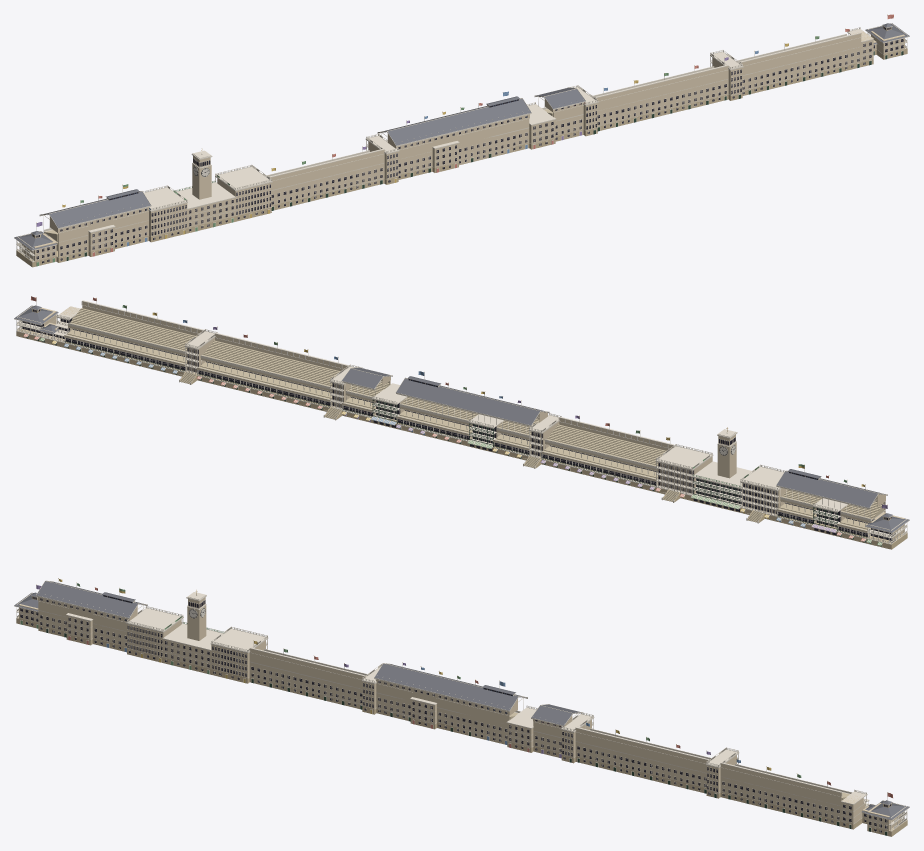
The model's file is ascot_main_stand_dressed.glb.
3 renders of one model, top to bottom at view 1: azimuth 30°, elevation 25°; view 2: azimuth 150°, elevation 25°; view 3: azimuth 330°, elevation 25°, orthographic.
Parts seen in each view (by area): view 1: ascot_stand_wall, ascot_stand_trim, ascot_stand_roof, ascot_stand_glass, ascot_stand_podium, ascot_stand_door; view 2: ascot_stand_trim, ascot_stand_steps, ascot_stand_wall, ascot_stand_roof, ascot_stand_glass, ascot_stand_podium, ascot_stand_iron; view 3: ascot_stand_wall, ascot_stand_trim, ascot_stand_roof, ascot_stand_glass, ascot_stand_podium, ascot_stand_door.
Part boxes in pixels (<box>): ascot_stand_wall: <box>22,26,904,262</box>; ascot_stand_trim: <box>14,23,909,266</box>; ascot_stand_roof: <box>14,23,909,250</box>; ascot_stand_glass: <box>32,27,903,263</box>; ascot_stand_podium: <box>16,47,907,267</box>; ascot_stand_door: <box>36,51,903,266</box>; ascot_stand_trim: <box>14,300,909,546</box>; ascot_stand_steps: <box>66,308,884,530</box>; ascot_stand_wall: <box>32,302,904,540</box>; ascot_stand_roof: <box>14,305,909,532</box>; ascot_stand_glass: <box>22,309,892,540</box>; ascot_stand_podium: <box>16,329,907,549</box>; ascot_stand_iron: <box>65,341,866,538</box>; ascot_stand_wall: <box>19,596,901,830</box>; ascot_stand_trim: <box>14,580,909,835</box>; ascot_stand_roof: <box>14,581,909,819</box>; ascot_stand_glass: <box>20,595,891,832</box>; ascot_stand_podium: <box>16,617,907,836</box>; ascot_stand_door: <box>20,621,887,835</box>.
Bounding box in the file's own units: 509 × 40.17 × 26.95.
